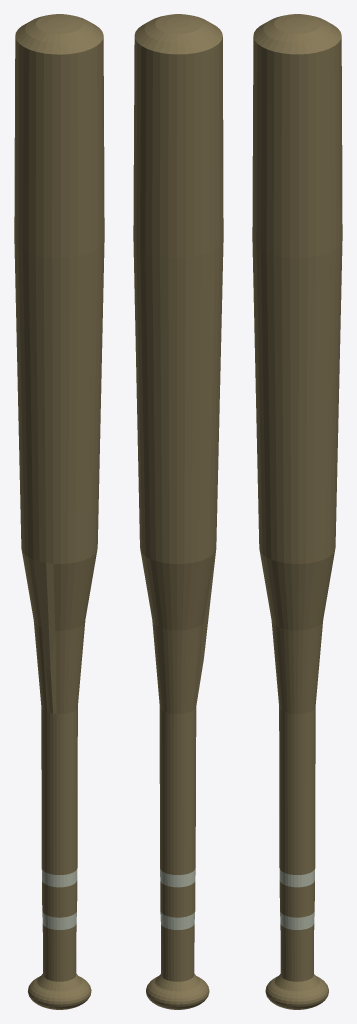
Rendered from Baseball Anim.fbx.
The picture shows the model from 3 angles, left to right: view 1: azimuth 90°, elevation 25°; view 2: azimuth 210°, elevation 25°; view 3: azimuth 270°, elevation 25°; orthographic projection.
Parts seen in each view (by area): view 1: Sphere; view 2: Sphere; view 3: Sphere.
Part boxes in pixels (x1,y1,x2,y2): Sphere: [14, 14, 104, 1009]; Sphere: [133, 14, 223, 1009]; Sphere: [252, 14, 342, 1009].
Size of the model in its own units: 176 by 2113 by 176.
